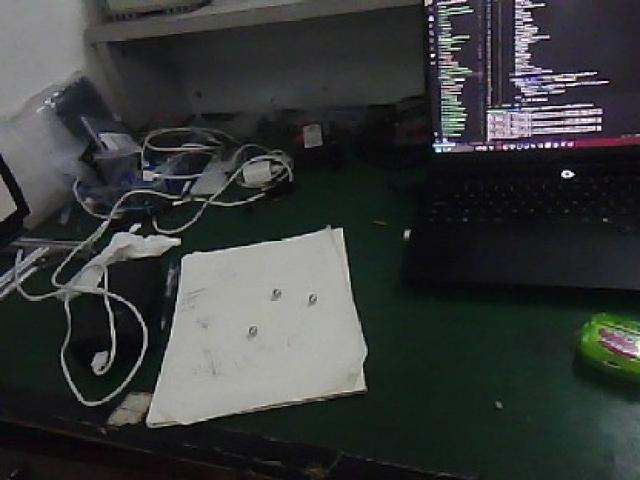steel-ball: (231, 313, 271, 342), (258, 276, 282, 304), (297, 282, 315, 316)
